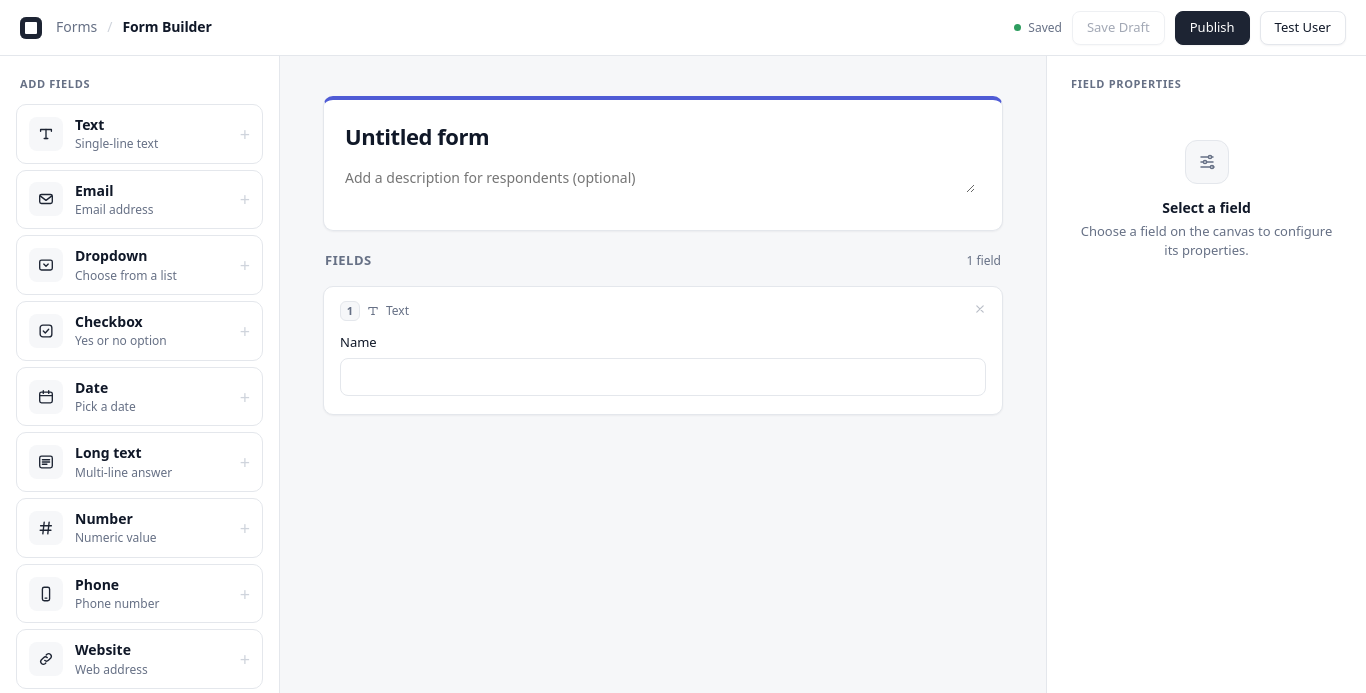
Test: autosave debounce › sends the saved schema to the right form
Step 1. Click the button named "Select Name" → (663,350), box x1=324 y1=287 x2=1002 y2=414
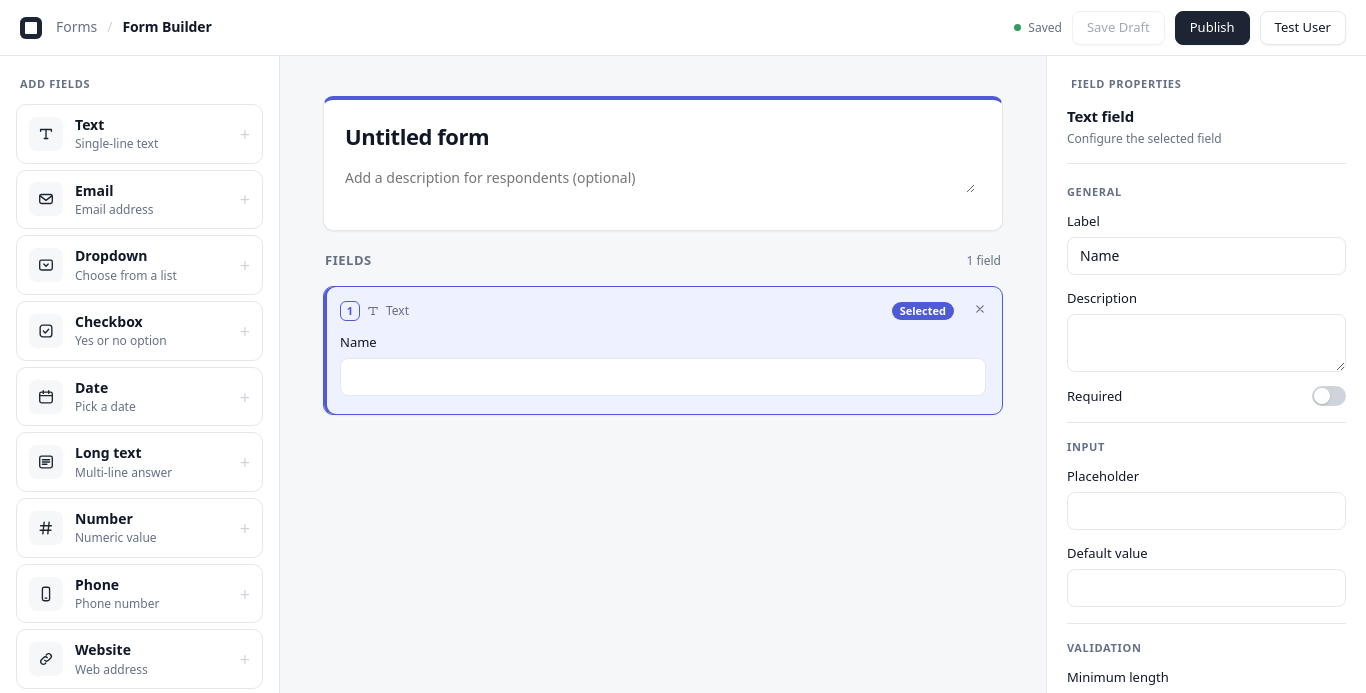
Step 2. Replace the text in the field labelled "Label" with "NameX" → (1206,256), box x1=1067 y1=237 x2=1346 y2=275
Wait 750 ms
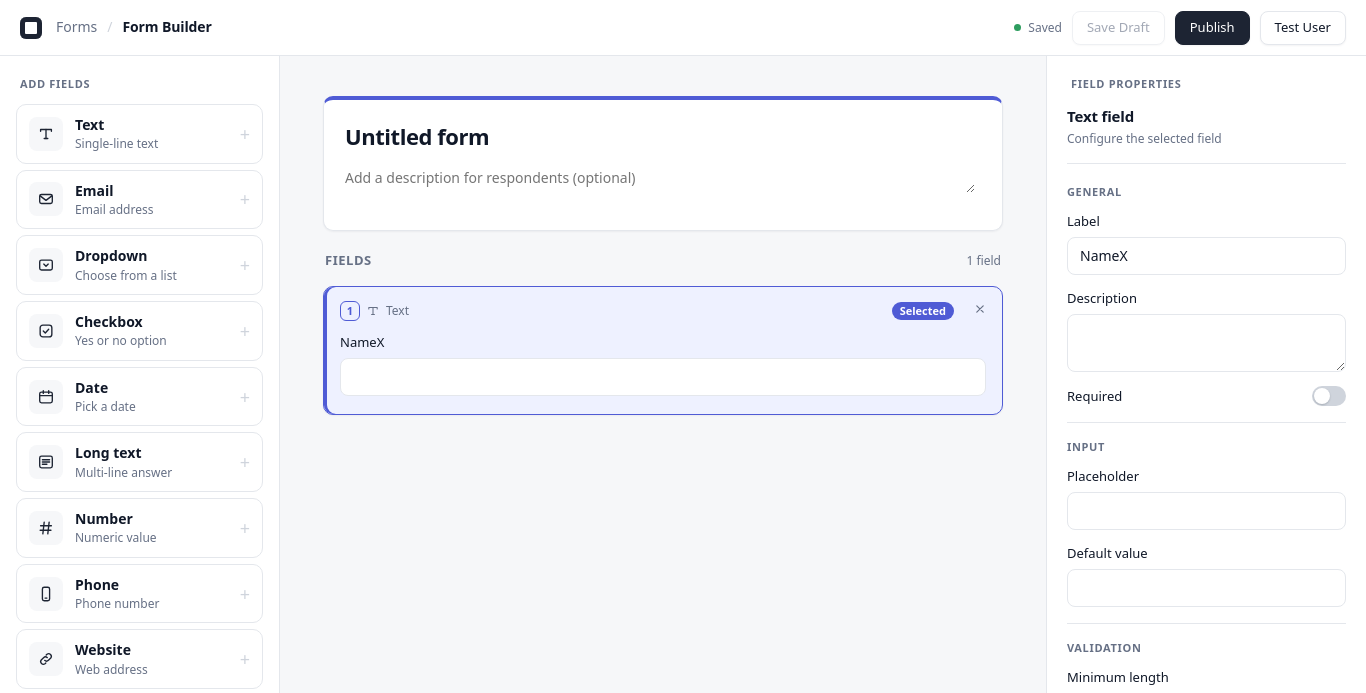
Result: the label "NameX" is shown at x1=340 y1=333 x2=384 y2=351
